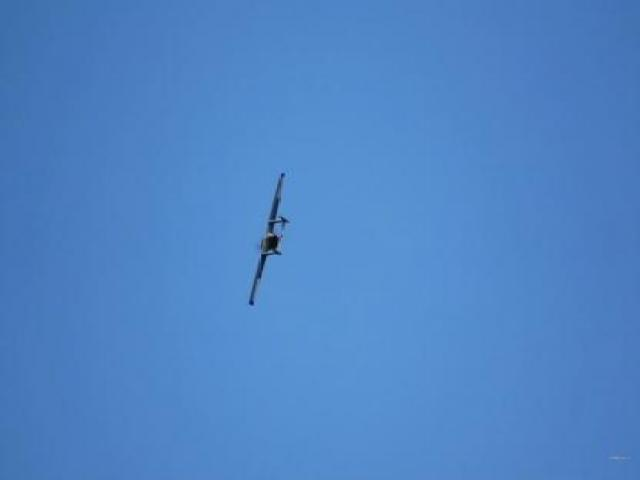uav: (247, 171, 288, 307)
